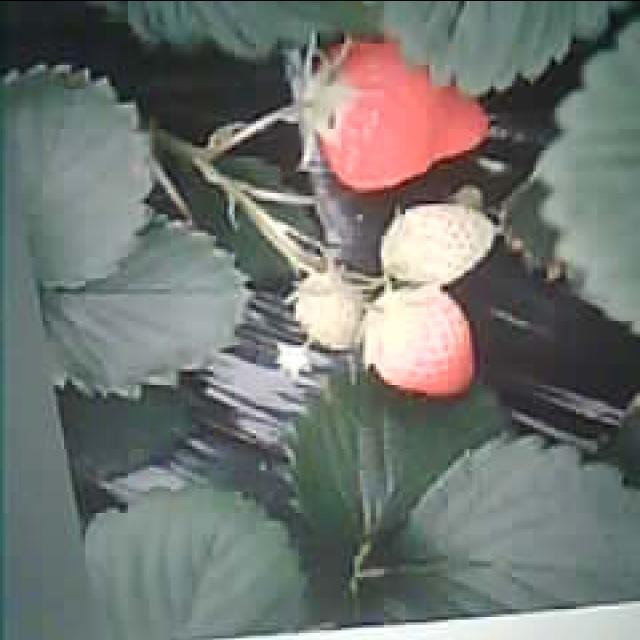strawberry: (318, 41, 488, 188), (369, 288, 473, 392), (380, 200, 494, 284), (296, 274, 364, 349)
